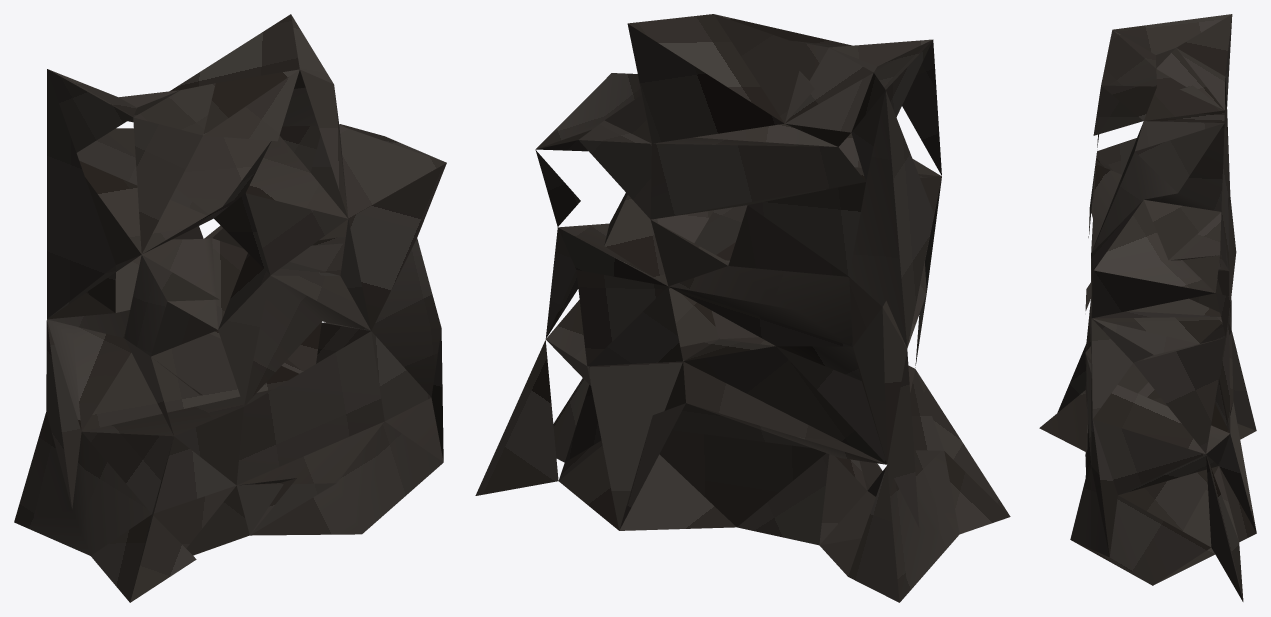
The model's file is stunt-scaffold-tower.collision.glb.
3 views of the same model, side by side, from view 1: azimuth 30°, elevation 25°; view 2: azimuth 150°, elevation 25°; view 3: azimuth 270°, elevation 25° (orthographic). The views are drawn at different scales.
Parts seen in each view (by area): view 1: output_unwrapped; view 2: output_unwrapped; view 3: output_unwrapped.
Boxes of the visible parts, bbox=[...] form: output_unwrapped: bbox=[14, 14, 446, 602]; output_unwrapped: bbox=[475, 14, 1010, 602]; output_unwrapped: bbox=[1039, 14, 1256, 601].
Size of the model in its own units: 1.57 by 1.75 by 0.816.
Materials: 1 (1 with a texture image).
